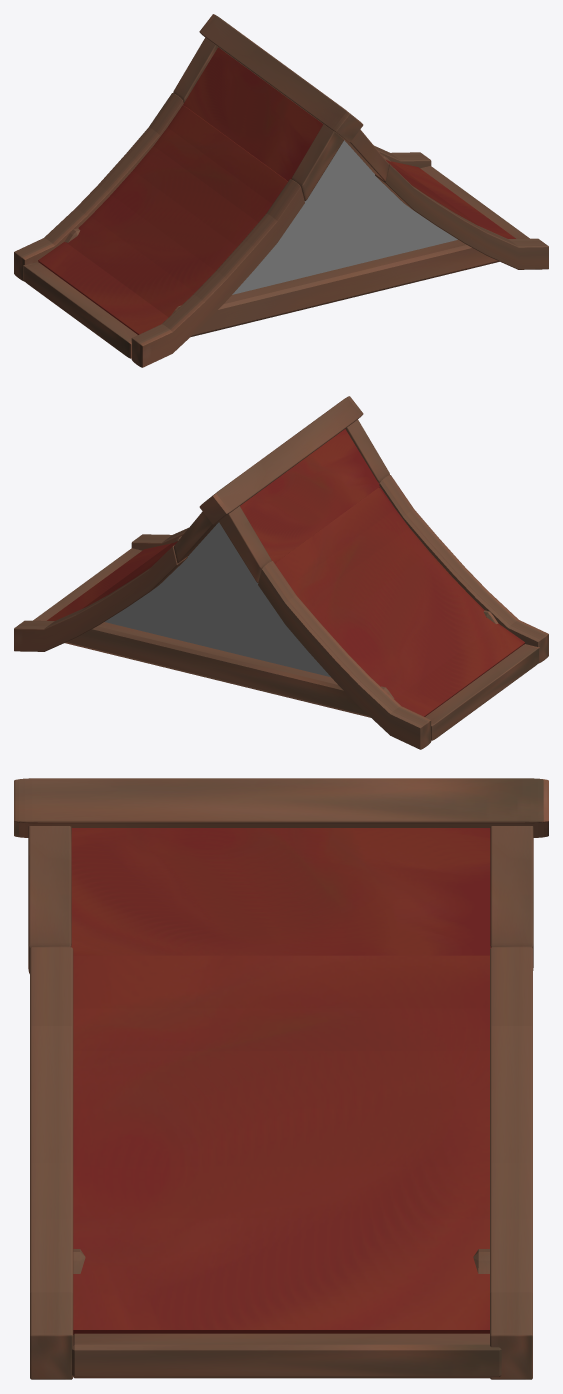
Rendered from House_Roof_Full.fbx.
3 views of the same model, one above another, from view 1: azimuth 30°, elevation 25°; view 2: azimuth 150°, elevation 25°; view 3: azimuth 270°, elevation 25° (orthographic). The views are drawn at different scales.
Visible parts, largest first — view 1: Cap; view 2: Cap; view 3: Cap.
Part boxes in pixels (left/top/right/bottom): Cap: left=14, top=14, right=548, bottom=367; Cap: left=14, top=396, right=548, bottom=749; Cap: left=14, top=778, right=548, bottom=1379.
Bounding box in the file's own units: 21.36 × 12.37 × 10.41.
Materials: 13 (12 with a texture image).
